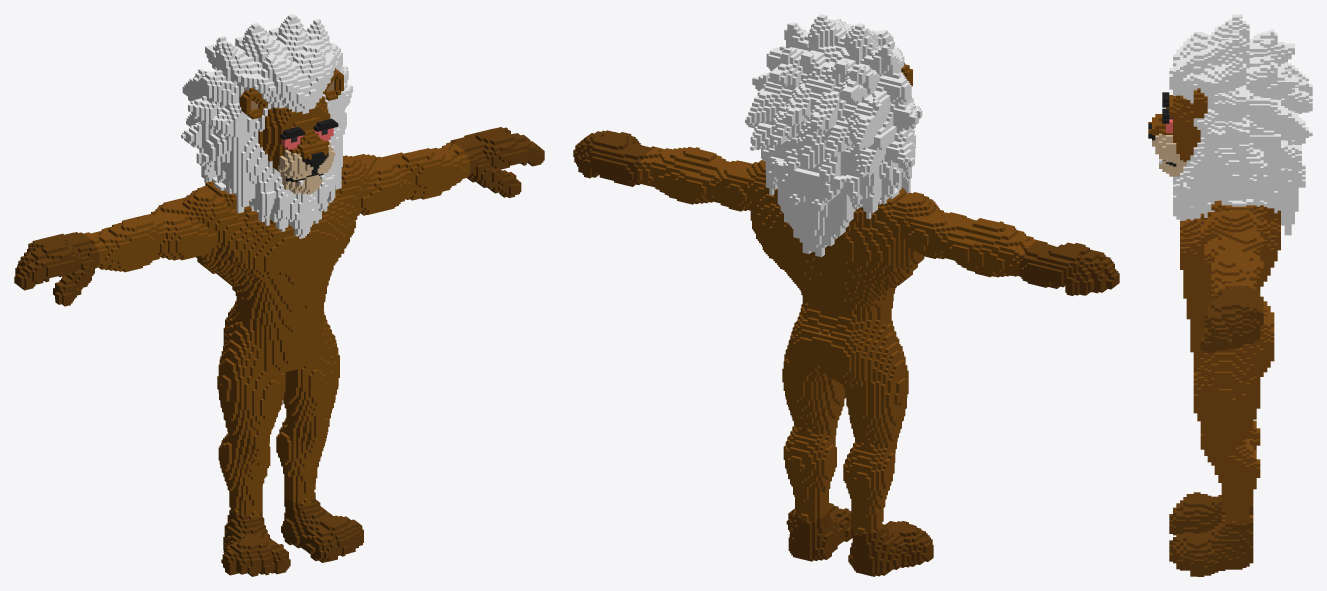
The model's file is 276-D100eWr6.fbx.
The picture shows the model from 3 angles, left to right: view 1: azimuth 30°, elevation 25°; view 2: azimuth 150°, elevation 25°; view 3: azimuth 270°, elevation 25°; orthographic projection. The views are drawn at different scales.
Parts seen in each view (by area): view 1: standard; view 2: standard; view 3: standard.
Boxes of the visible parts, x1,y1,x2,y2 form: standard: [14, 14, 544, 576]; standard: [573, 14, 1119, 576]; standard: [1148, 14, 1312, 576].
Size of the model in its own units: 17.2 by 16.5 by 4.7.
Materials: 4 (4 with a texture image).
